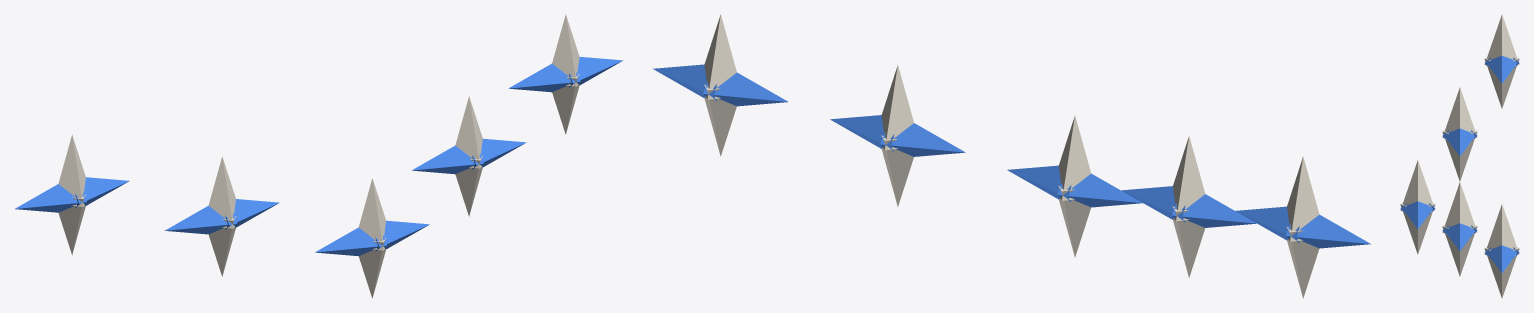
File: shuriken_storm.glb
The picture shows the model from 3 angles, left to right: view 1: azimuth 30°, elevation 25°; view 2: azimuth 150°, elevation 25°; view 3: azimuth 270°, elevation 25°; orthographic projection. The views are drawn at different scales.
Visible parts, largest first — view 1: shuriken_4_blade_2, shuriken_1_blade_2, shuriken_0_blade_2, shuriken_3_blade_2, shuriken_2_blade_2, shuriken_4_blade_1, shuriken_2_blade_1, shuriken_3_blade_1, shuriken_1_blade_1, shuriken_0_blade_1, shuriken_4_blade_3, shuriken_0_blade_3 (+8 smaller); view 2: shuriken_2_blade_2, shuriken_4_blade_2, shuriken_0_blade_2, shuriken_1_blade_2, shuriken_3_blade_2, shuriken_3_blade_1, shuriken_0_blade_1, shuriken_1_blade_1, shuriken_4_blade_1, shuriken_2_blade_1, shuriken_0_blade_3, shuriken_2_blade_3 (+8 smaller); view 3: shuriken_2_blade_1, shuriken_4_blade_1, shuriken_1_blade_1, shuriken_3_blade_1, shuriken_0_blade_1, shuriken_1_blade_3, shuriken_0_blade_3, shuriken_3_blade_3, shuriken_0_blade_0, shuriken_1_blade_0, shuriken_2_blade_3, shuriken_4_blade_3 (+3 smaller).
Part boxes in pixels (<box>): shuriken_4_blade_2: <box>508,63,580,92</box>; shuriken_1_blade_2: <box>164,206,236,234</box>; shuriken_0_blade_2: <box>15,184,86,212</box>; shuriken_3_blade_2: <box>411,145,483,174</box>; shuriken_2_blade_2: <box>315,227,387,256</box>; shuriken_4_blade_1: <box>552,14,579,86</box>; shuriken_2_blade_1: <box>358,178,385,250</box>; shuriken_3_blade_1: <box>455,96,482,168</box>; shuriken_1_blade_1: <box>208,156,235,228</box>; shuriken_0_blade_1: <box>58,134,85,206</box>; shuriken_4_blade_3: <box>552,74,579,134</box>; shuriken_0_blade_3: <box>58,194,85,255</box>; shuriken_2_blade_2: <box>1057,173,1142,207</box>; shuriken_4_blade_2: <box>703,72,788,106</box>; shuriken_0_blade_2: <box>1285,214,1370,248</box>; shuriken_1_blade_2: <box>1171,194,1256,227</box>; shuriken_3_blade_2: <box>880,123,965,156</box>; shuriken_3_blade_1: <box>881,65,913,150</box>; shuriken_0_blade_1: <box>1287,156,1319,241</box>; shuriken_1_blade_1: <box>1173,136,1205,221</box>; shuriken_4_blade_1: <box>704,14,736,99</box>; shuriken_2_blade_1: <box>1059,115,1091,200</box>; shuriken_0_blade_3: <box>1286,227,1319,298</box>; shuriken_2_blade_3: <box>1058,186,1091,257</box>; shuriken_2_blade_1: <box>1400,160,1435,212</box>; shuriken_4_blade_1: <box>1484,204,1519,256</box>; shuriken_1_blade_1: <box>1442,87,1477,139</box>; shuriken_3_blade_1: <box>1442,182,1477,234</box>; shuriken_0_blade_1: <box>1484,14,1519,66</box>; shuriken_1_blade_3: <box>1442,130,1477,181</box>; shuriken_0_blade_3: <box>1484,57,1519,108</box>; shuriken_3_blade_3: <box>1442,225,1477,276</box>; shuriken_0_blade_0: <box>1484,55,1519,83</box>; shuriken_1_blade_0: <box>1442,128,1477,156</box>; shuriken_2_blade_3: <box>1400,203,1435,254</box>; shuriken_4_blade_3: <box>1484,247,1519,298</box>.
Bounding box in the file's own units: 1.58 × 0.46 × 0.34.
